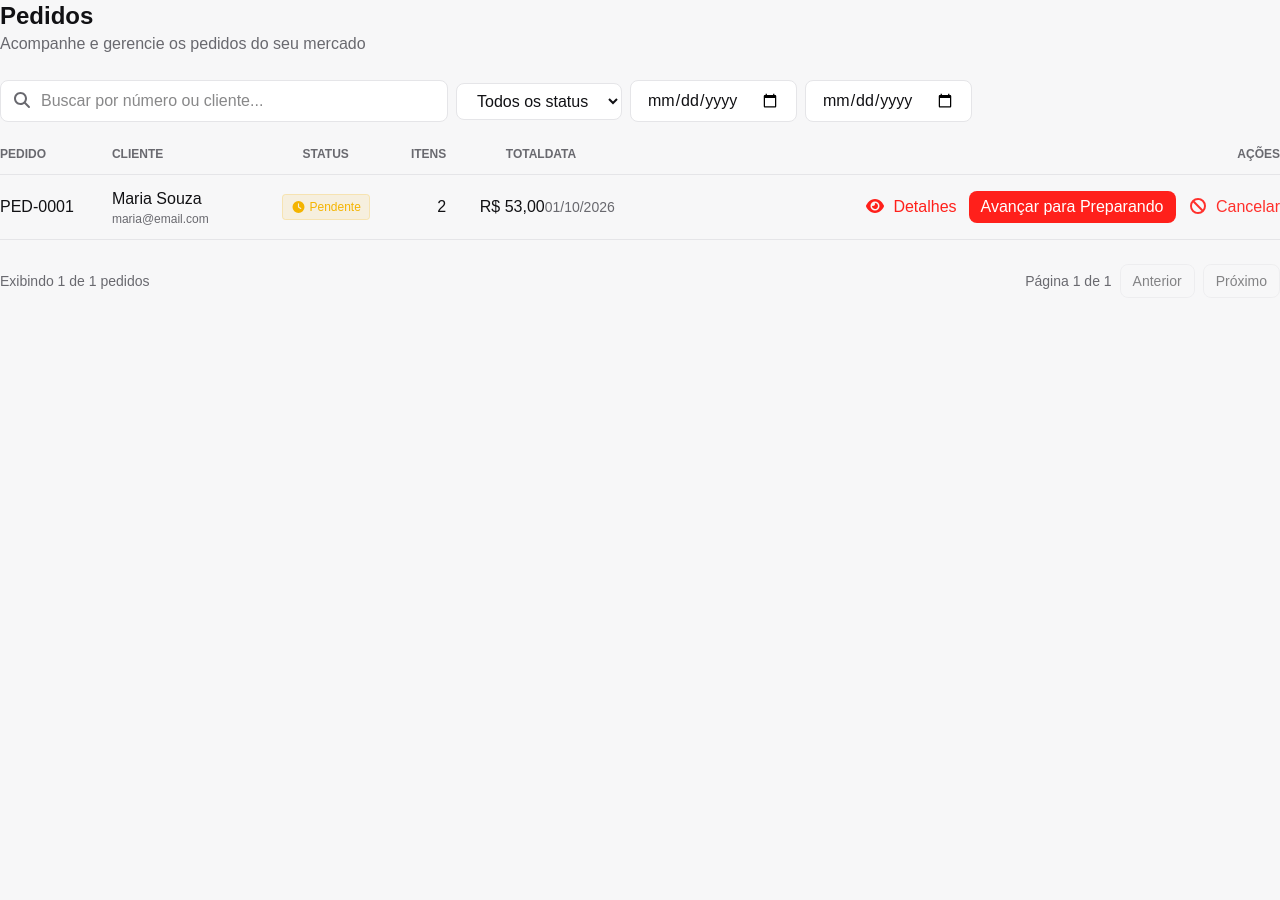
Scenario: OrdersPage — detalhe do pedido › fecha o detalhe e mantém a listagem
This screenshot has width=1280, height=900.
Check: the button "PED-0001" is shown, box [0,195,74,219]
Step 1. Click the button with aria-label "Detalhes do pedido PED-0001" → (911, 207), box [865,195,957,219]
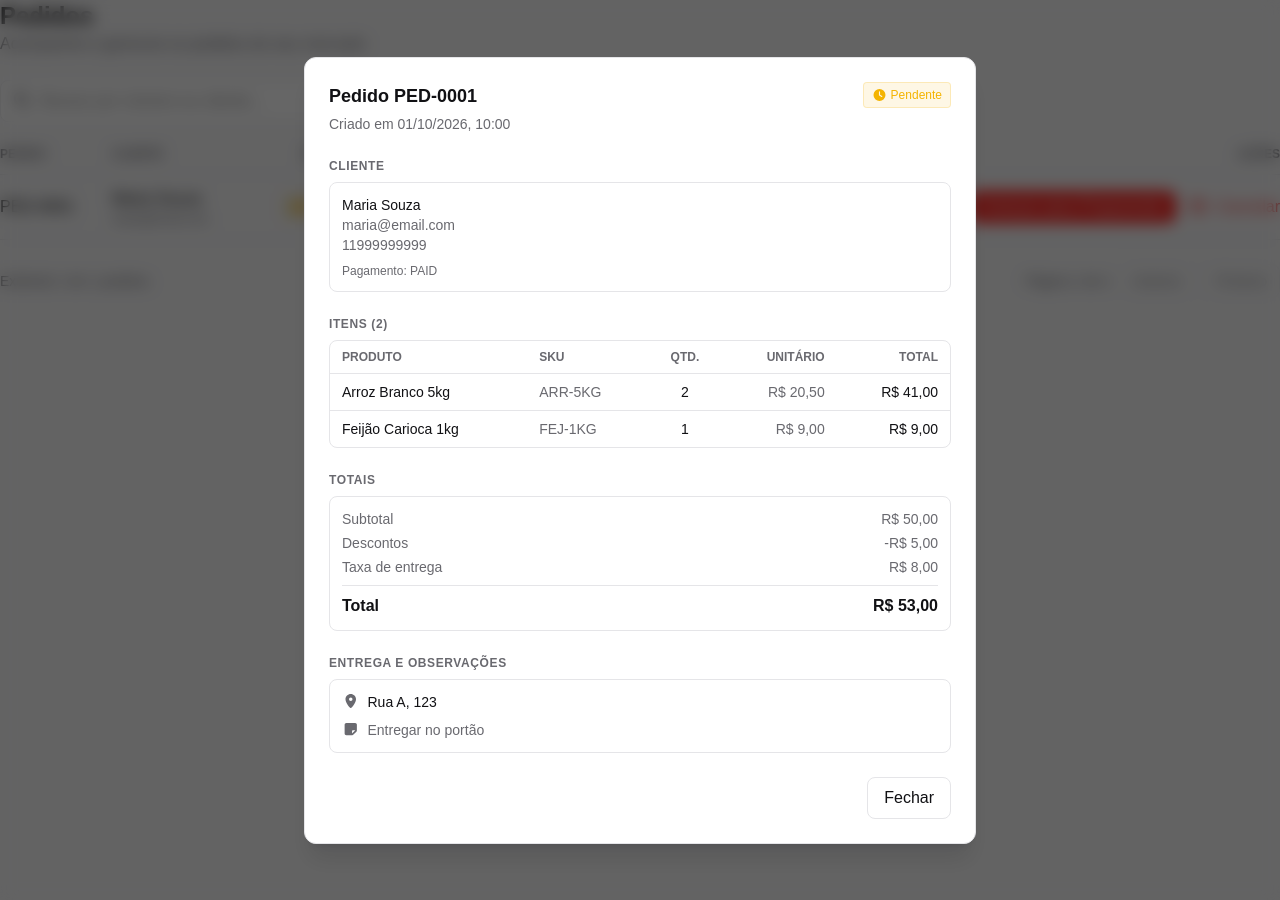
Check: the dialog is shown, box [304,56,976,844]
Step 2. Click the button "Fechar" → (909, 798), box [867,776,951,818]
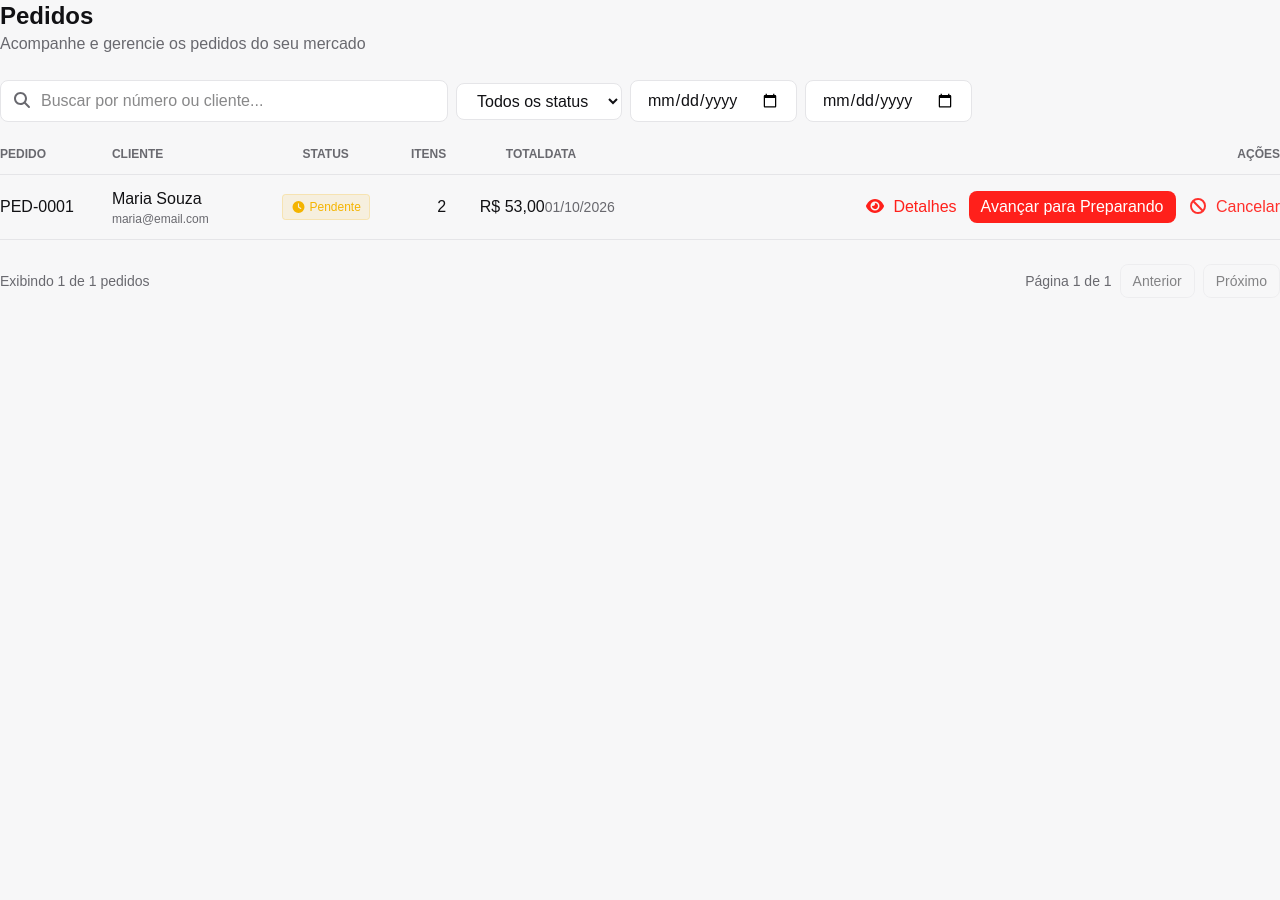
Check: the button "PED-0001" is shown, box [0,195,74,219]
Check: the dialog is gone
